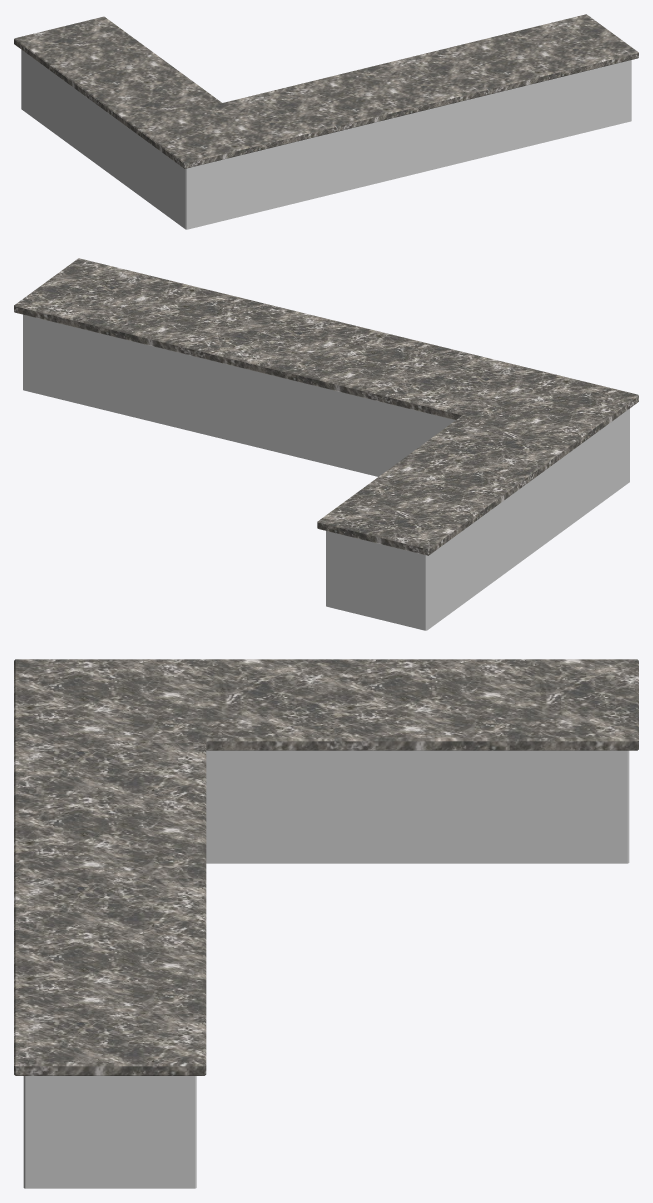
Rendered from shop_counter.fbx.
3 views of the same model, one above another, from view 1: azimuth 30°, elevation 25°; view 2: azimuth 150°, elevation 25°; view 3: azimuth 270°, elevation 25° (orthographic). The views are drawn at different scales.
Parts seen in each view (by area): view 1: counter2-col; view 2: counter2-col; view 3: counter2-col.
Part boxes in pixels (box(x1,y1,x2,y2)): counter2-col: box(14, 14, 638, 229); counter2-col: box(14, 258, 638, 630); counter2-col: box(14, 659, 638, 1188).
Size of the model in its own units: 96 by 14.08 by 62.4.
